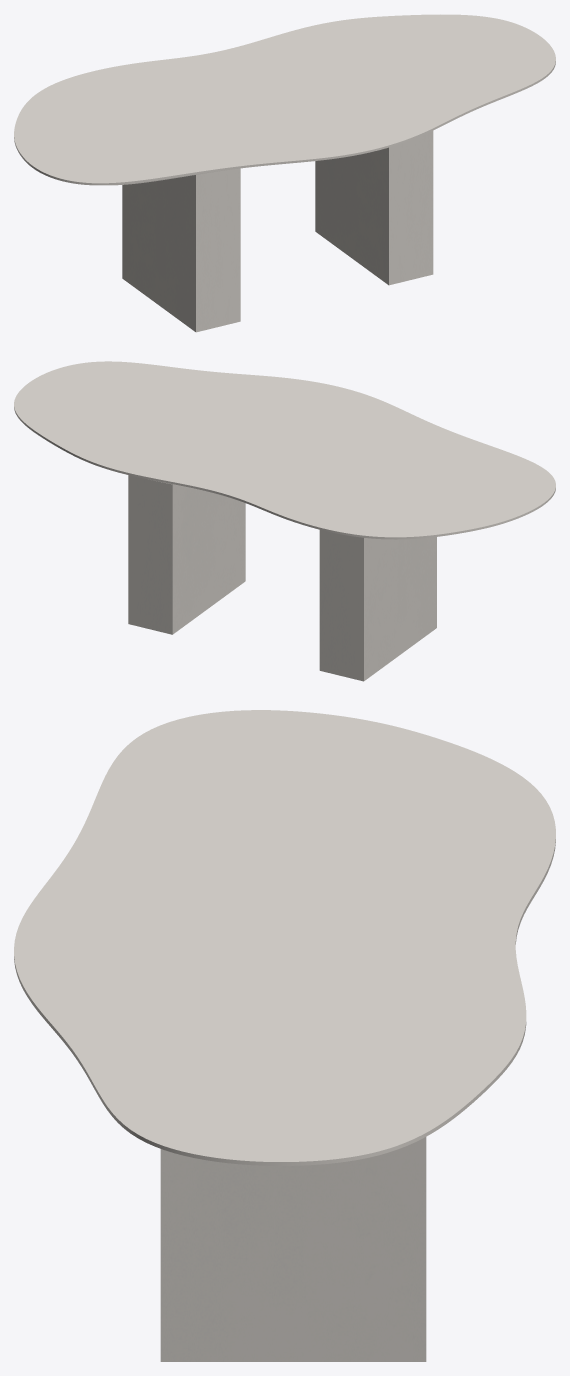
The model's file is pearlwhite_toplast_facet_ridge.glb.
3 renders of one model, top to bottom at view 1: azimuth 30°, elevation 25°; view 2: azimuth 150°, elevation 25°; view 3: azimuth 270°, elevation 25°, orthographic. The views are drawn at different scales.
Visible parts, largest first — view 1: facet_toplast, ridge; view 2: facet_toplast, ridge; view 3: facet_toplast, ridge.
Part boxes in pixels (x1,y1,x2,y2): facet_toplast: (14,14,555,185); ridge: (122,131,433,332); facet_toplast: (14,361,555,539); ridge: (128,475,436,681); facet_toplast: (14,710,555,1165); ridge: (160,1137,426,1361).
Bounding box in the file's own units: 7.5 × 2.5 × 3.8.
1 material, 1 textured.
